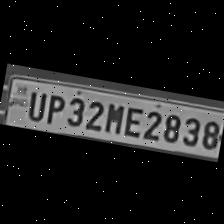2: (80, 94, 106, 132), (140, 104, 162, 140)
3: (62, 92, 86, 127), (178, 111, 202, 146)
8: (158, 108, 182, 143), (197, 114, 221, 148)
E: (119, 100, 145, 137)
M: (101, 97, 125, 133)
P: (41, 88, 65, 125)
U: (22, 86, 47, 121)
